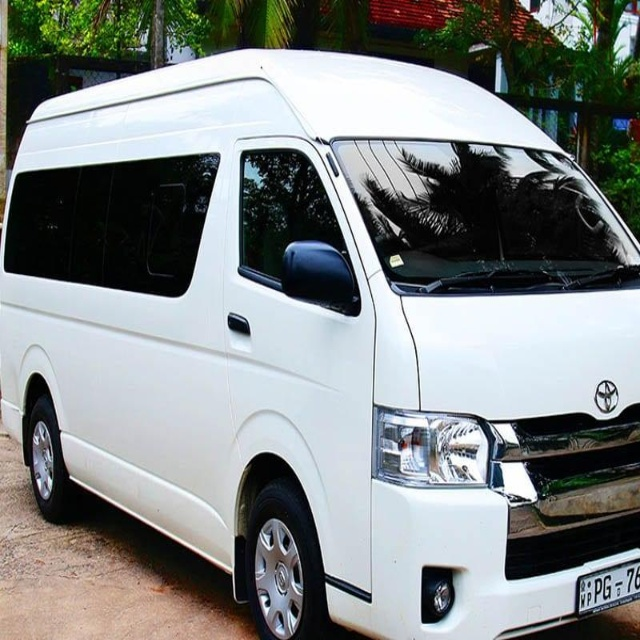Van: (1, 49, 640, 640)
